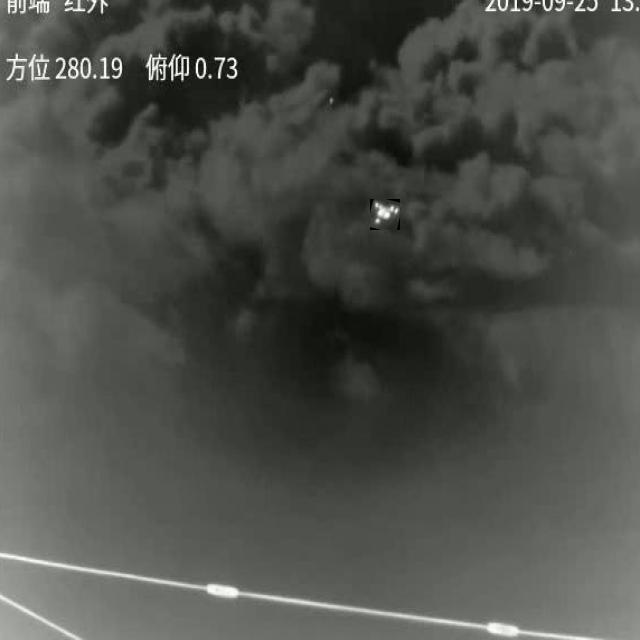drone: (370, 199, 400, 230)
